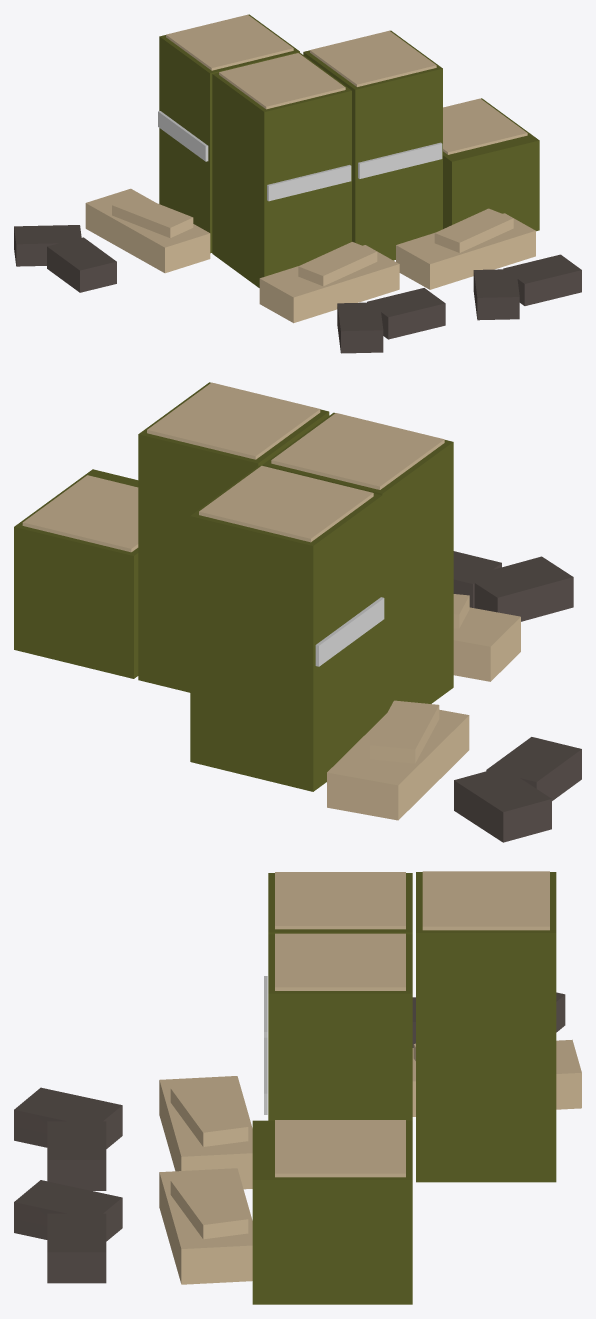
The model's file is SM_HescoRemate_v1_Geotextil_e1_Danado_LOD1.fbx.
3 renders of one model, top to bottom at view 1: azimuth 30°, elevation 25°; view 2: azimuth 150°, elevation 25°; view 3: azimuth 270°, elevation 25°, orthographic. The views are drawn at different scales.
Visible parts, largest first — view 1: SM_hesco_piezas_v25_LOD1; view 2: SM_hesco_piezas_v25_LOD1; view 3: SM_hesco_piezas_v25_LOD1.
Boxes of the visible parts, x1,y1,x2,y2 form: SM_hesco_piezas_v25_LOD1: [14, 14, 581, 353]; SM_hesco_piezas_v25_LOD1: [14, 382, 581, 842]; SM_hesco_piezas_v25_LOD1: [14, 871, 581, 1304].
Bounding box in the file's own units: 5.25 × 2.13 × 4.33.
